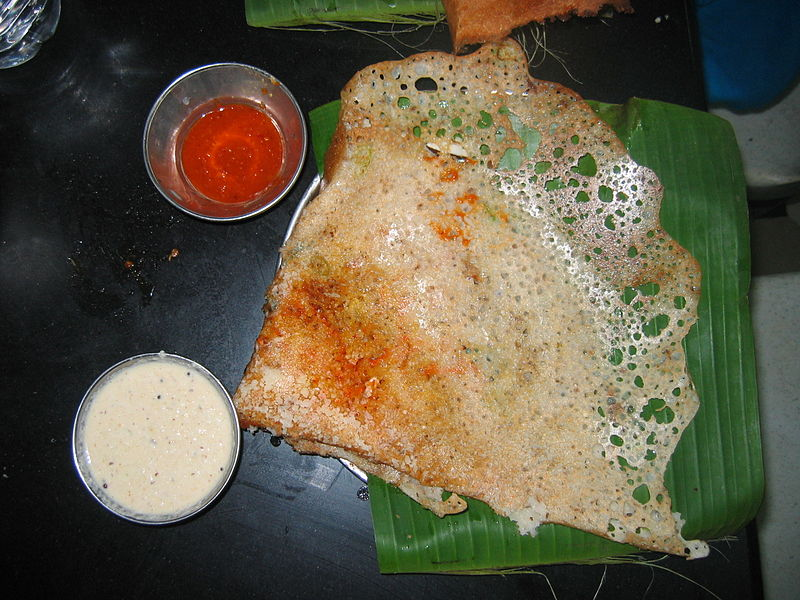dosa: (232, 34, 716, 562)
